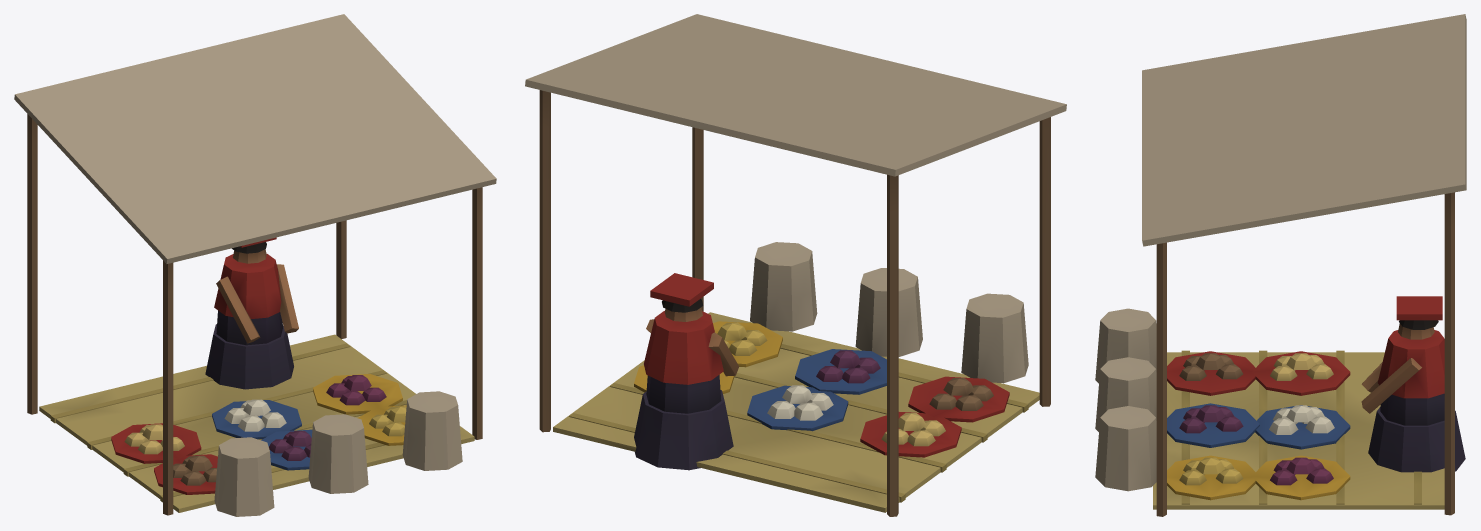
Rendered from stall-fruit.glb.
3 views of the same model, side by side, from view 1: azimuth 30°, elevation 25°; view 2: azimuth 150°, elevation 25°; view 3: azimuth 270°, elevation 25° (orthographic). The views are drawn at different scales.
Visible parts, largest first — view 1: base; view 2: base; view 3: base.
Part boxes in pixels (left/top/right/bottom): base: left=14, top=14, right=496, bottom=516; base: left=525, top=14, right=1066, bottom=516; base: left=1095, top=14, right=1466, bottom=516.
Size of the model in its own units: 2.45 by 2.25 by 2.26.
